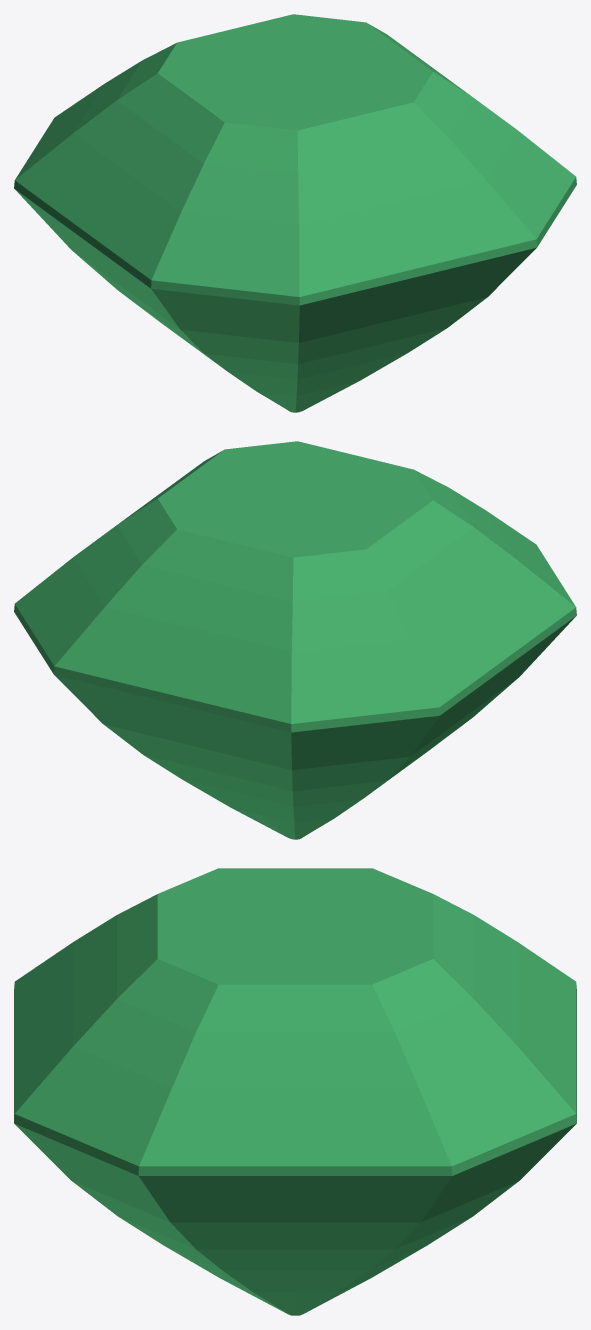
Rendered from Emrald_2.fbx.
The picture shows the model from 3 angles, top to bottom: view 1: azimuth 30°, elevation 25°; view 2: azimuth 150°, elevation 25°; view 3: azimuth 270°, elevation 25°; orthographic projection. The views are drawn at different scales.
Visible parts, largest first — view 1: Asscher; view 2: Asscher; view 3: Asscher.
Boxes of the visible parts, x1,y1,x2,y2 form: Asscher: (14, 14, 576, 412); Asscher: (14, 441, 576, 839); Asscher: (14, 868, 576, 1315).
Size of the model in its own units: 1.26 by 0.9529 by 1.26.
1 material, 1 textured.
